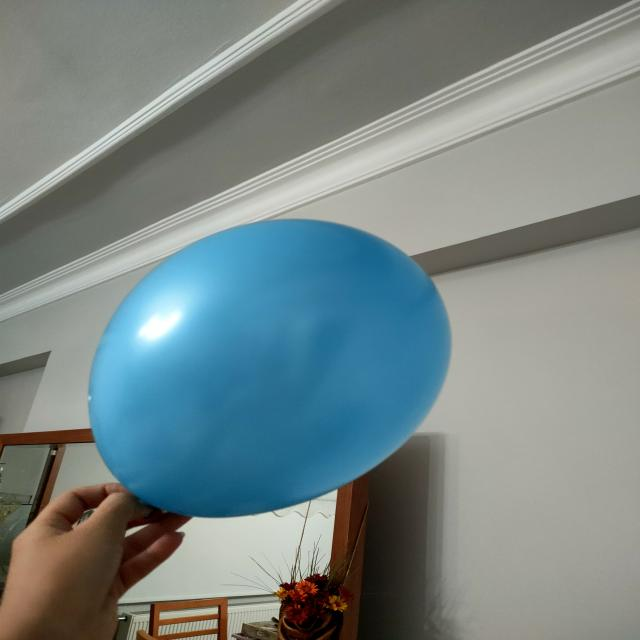blue: (94, 220, 455, 520)
